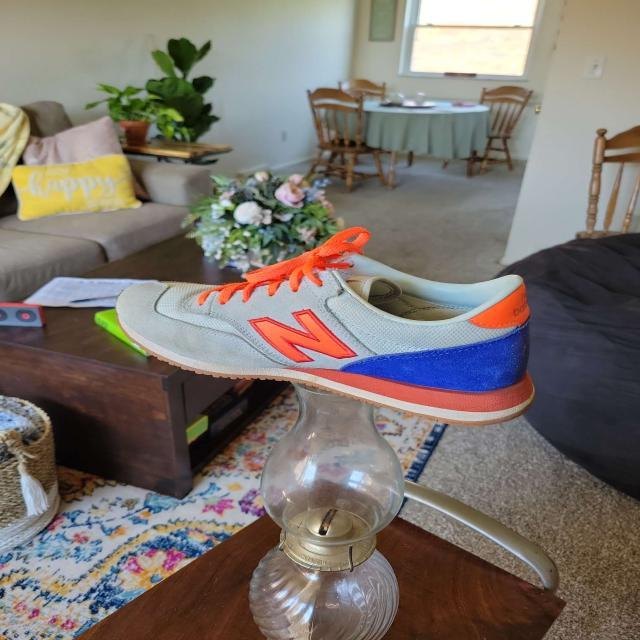shoes: (113, 226, 539, 428)
